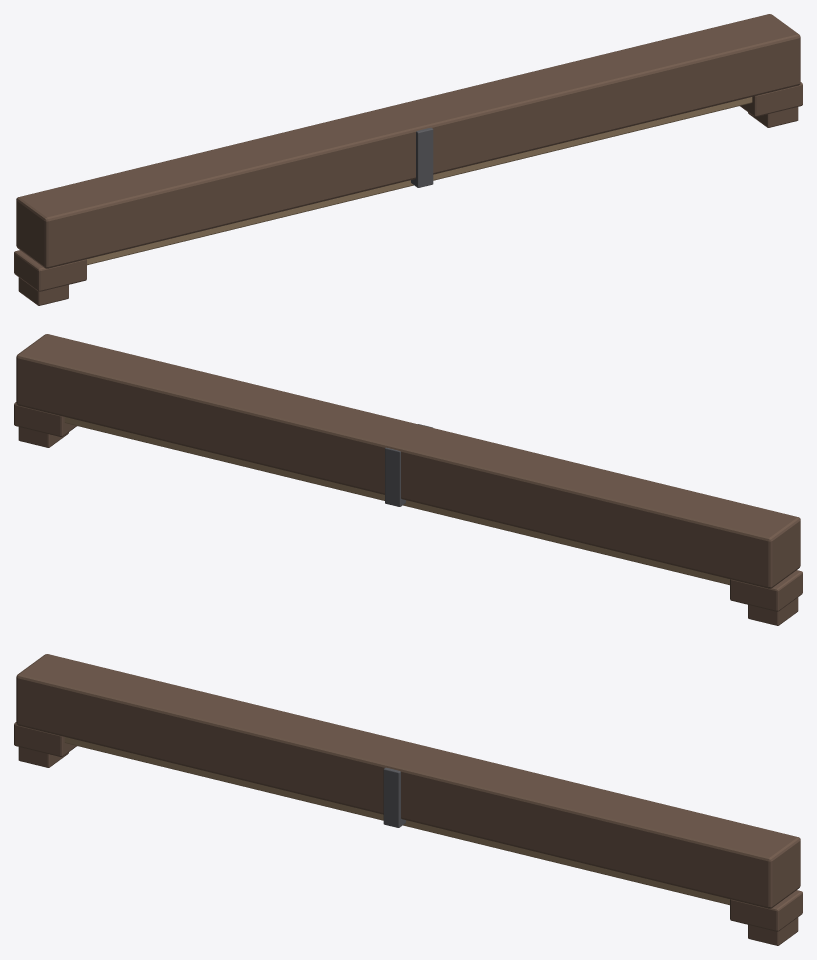
3 renders of one model, top to bottom at view 1: azimuth 30°, elevation 25°; view 2: azimuth 150°, elevation 25°; view 3: azimuth 330°, elevation 25°, orthographic.
Visible parts, largest first — view 1: beamRun; view 2: beamRun; view 3: beamRun.
Part boxes in pixels (left/top/right/bottom): beamRun: left=14, top=14, right=802, bottom=305; beamRun: left=14, top=334, right=802, bottom=625; beamRun: left=14, top=654, right=802, bottom=945.
Bounding box in the file's own units: 3.44 × 0.39 × 0.26.
